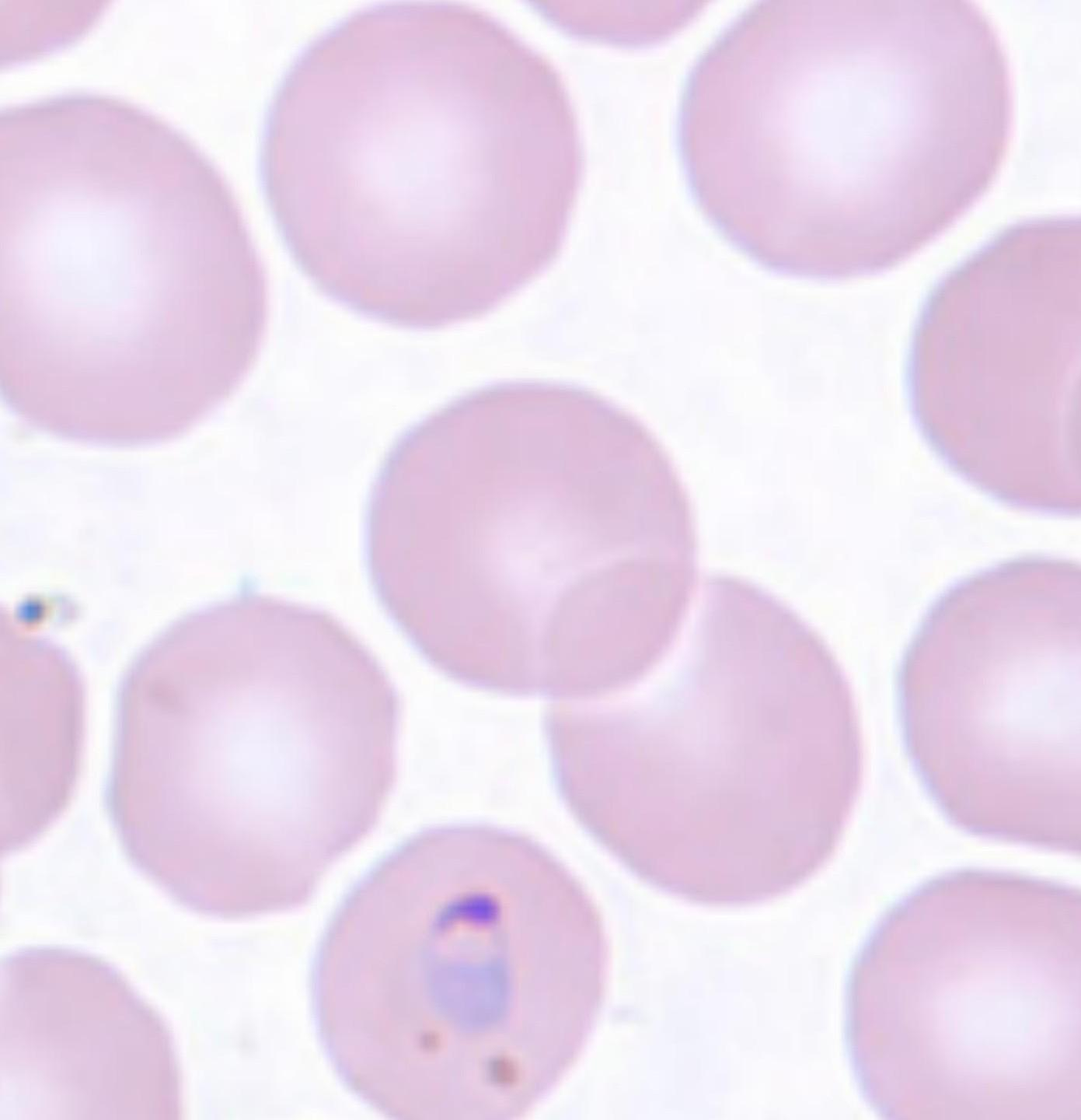Infected: (309, 821, 611, 1120)
Uninfected: (361, 374, 701, 696), (544, 562, 866, 896), (262, 0, 581, 331), (674, 0, 1012, 282), (105, 597, 399, 913), (0, 92, 258, 443), (849, 868, 1081, 1120), (898, 558, 1081, 854), (903, 218, 1081, 515)
